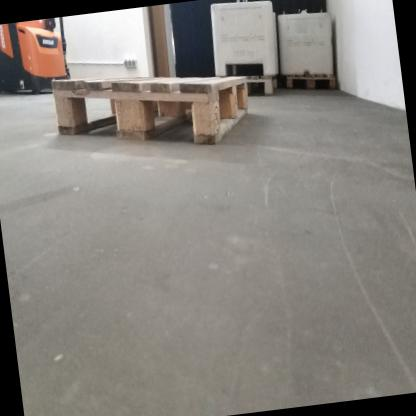BoxFace: (47, 70, 251, 150), (283, 71, 338, 96)
